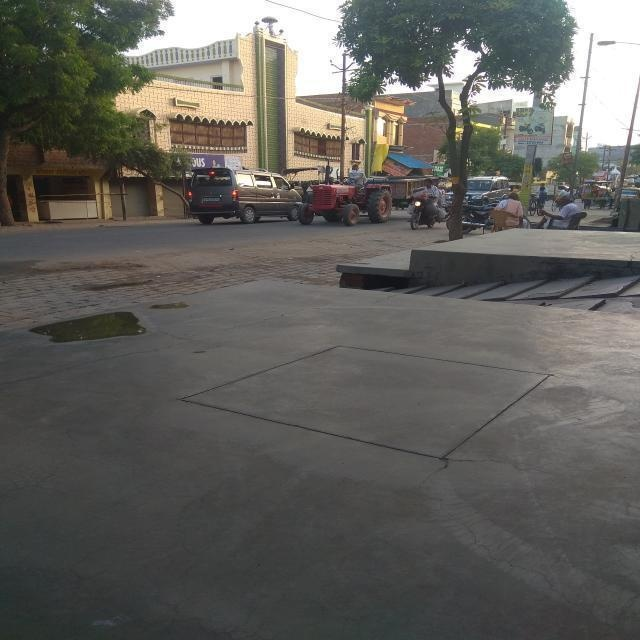Car: (176, 160, 282, 228), (453, 170, 516, 222)
